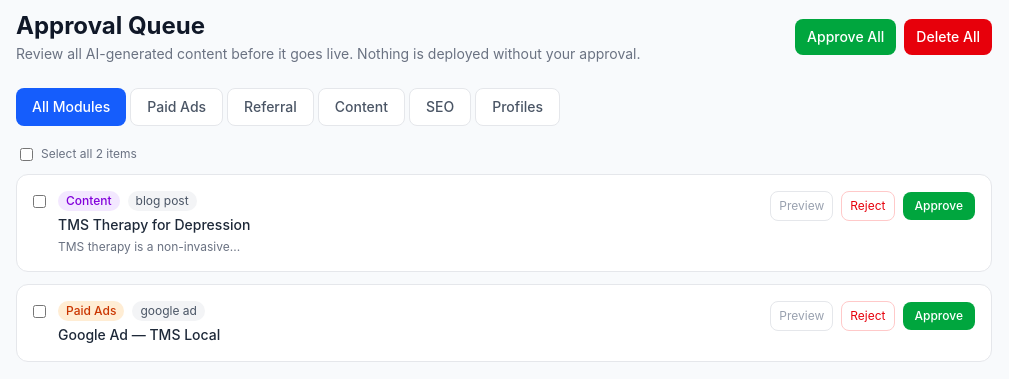
Scenario: Approval Queue page › removes item from list after approval
This screenshot has width=1009, height=379.
Expected: the text "TMS Therapy for Depression" is shown, [58,216,250,233]
Click the button "Approve" in the row of "TMS Therapy for Depression": (939, 206) [902,192,975,220]
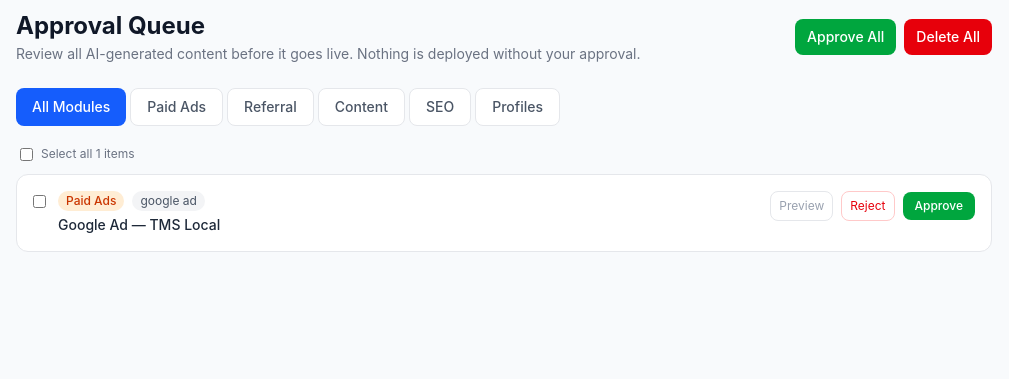
Expected: the text "TMS Therapy for Depression" is gone
